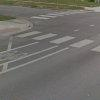Crosswalk: (23, 25, 100, 56)
